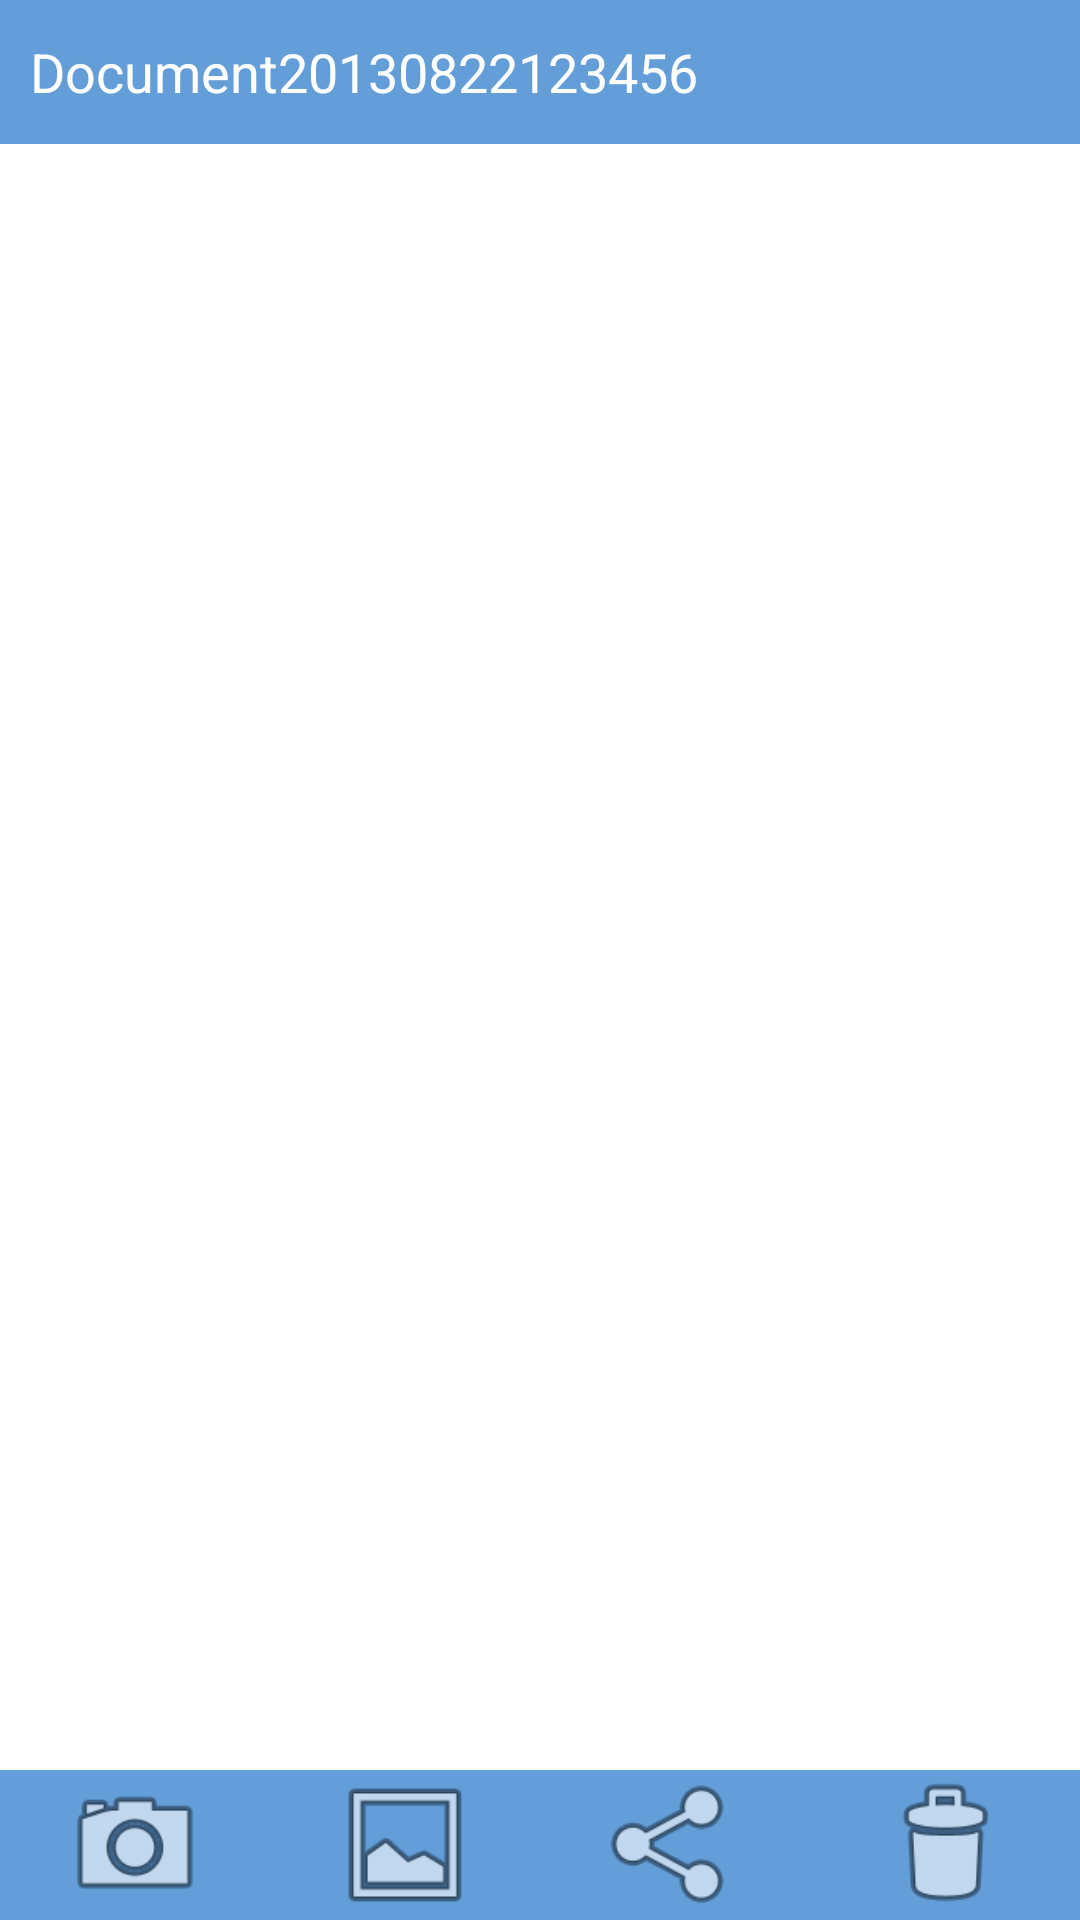

Named icons in this screenshot (1080x1920) and their bounding boxes, (x1, y1, x2, y2):
camera: (77, 1796, 193, 1889)
delete: (903, 1784, 988, 1901)
gallery: (348, 1788, 462, 1902)
share: (611, 1785, 723, 1903)
